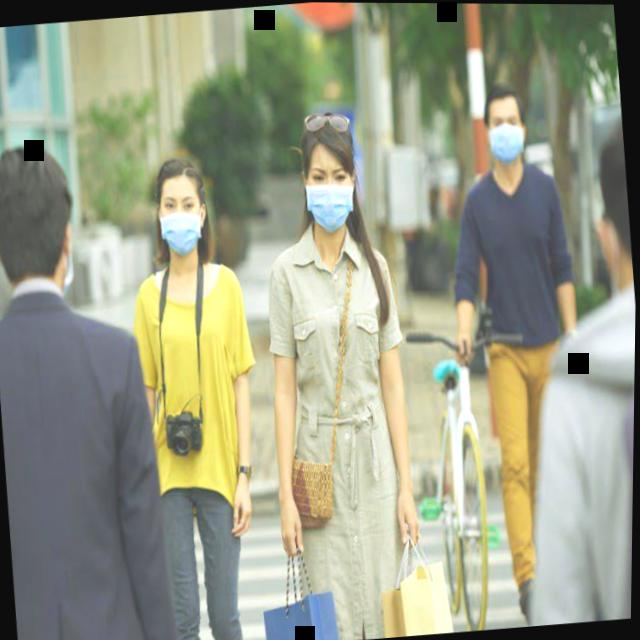Mask: (288, 97, 370, 246), (145, 151, 214, 256), (475, 76, 534, 169)
